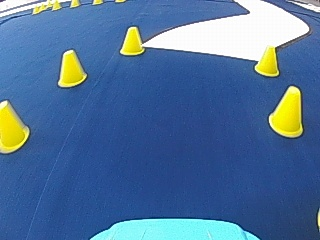cone: (270, 84, 304, 138), (0, 100, 30, 153), (58, 50, 87, 87), (255, 44, 280, 77), (120, 26, 145, 55)
